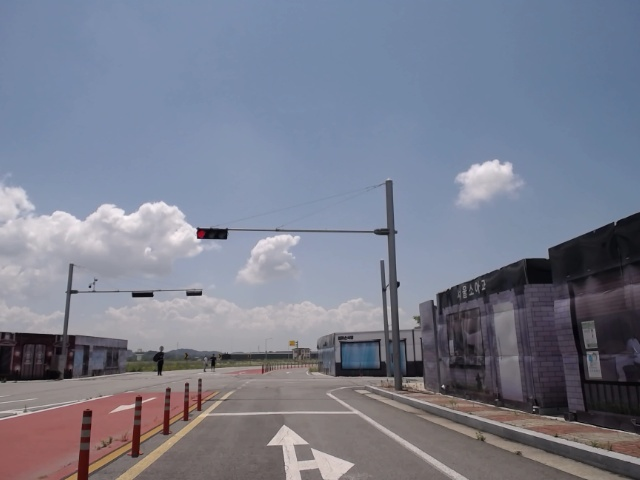red_3: (195, 228, 229, 241)
